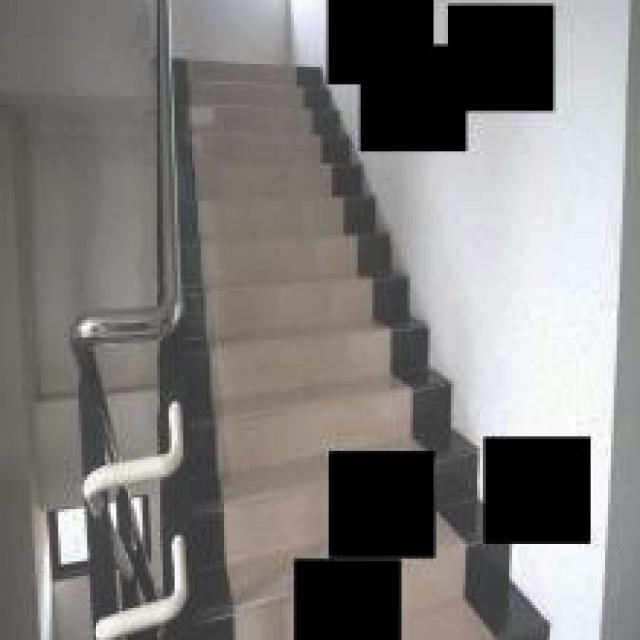upstair: (176, 42, 330, 440)
